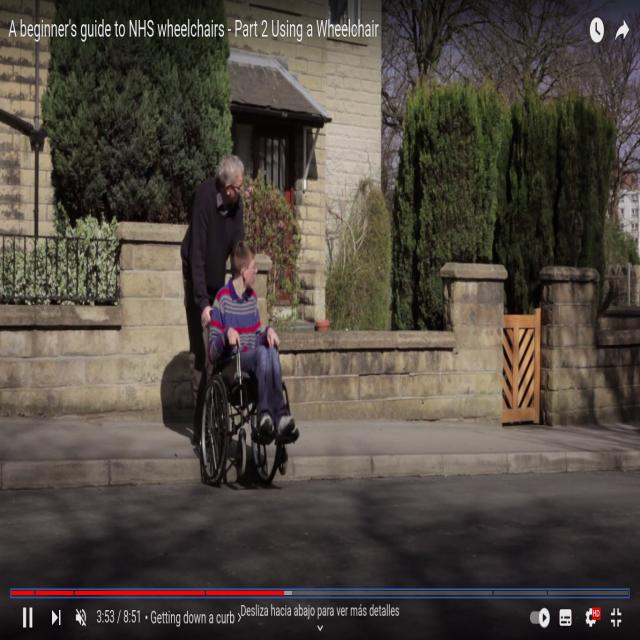wheelchairs: (200, 330, 288, 495)
